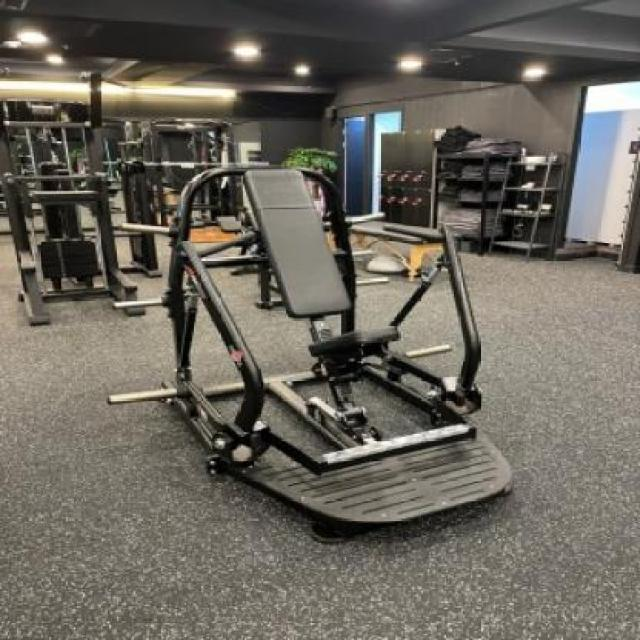Chest Press machine: (71, 128, 546, 554)
